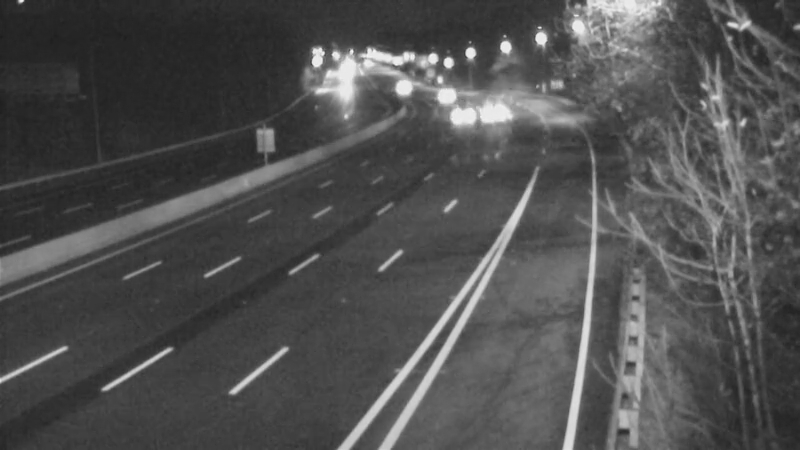vehicle: (375, 57, 425, 107), (413, 69, 463, 119), (435, 92, 485, 142), (467, 92, 517, 142)
